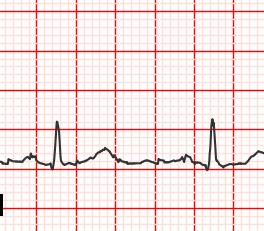LVH: (78, 144, 122, 169)
